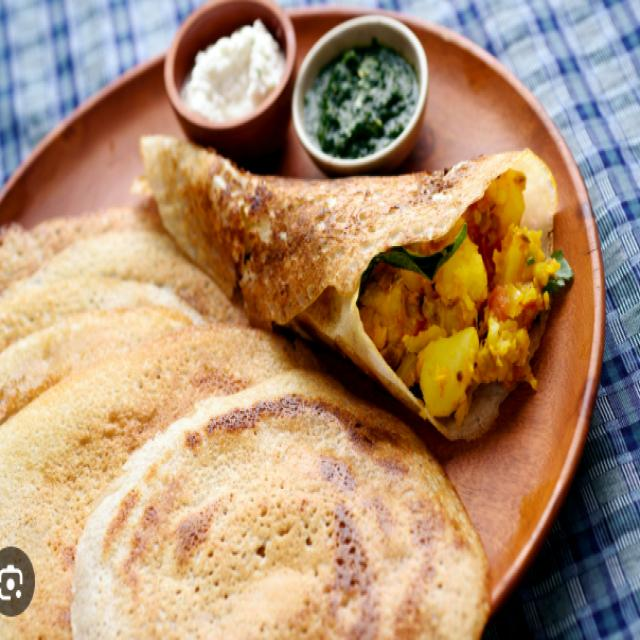dosa: (37, 166, 513, 632)
